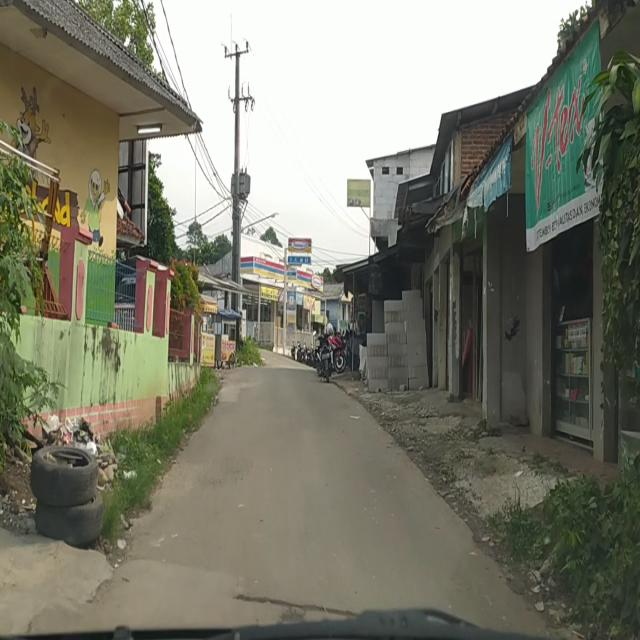Sewer Cover: (230, 588, 352, 620)
